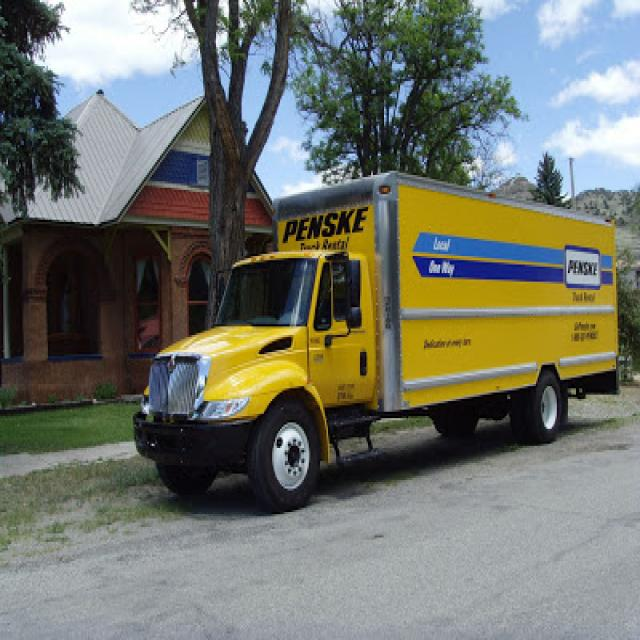overloaded: (110, 134, 640, 536)
